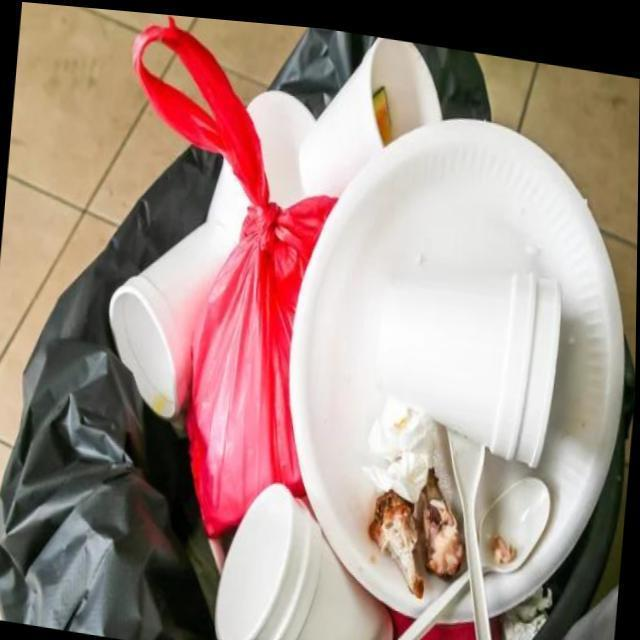Disposable: (291, 111, 625, 608), (378, 262, 562, 456), (217, 480, 395, 640), (110, 215, 237, 414), (299, 30, 441, 190), (449, 420, 493, 640), (247, 87, 315, 202), (479, 468, 551, 563), (392, 562, 469, 640), (207, 157, 249, 235)
Garbage: (110, 18, 622, 640)
Plastic_Bag: (133, 16, 336, 534), (415, 614, 478, 640), (391, 602, 414, 630), (492, 607, 502, 640)
